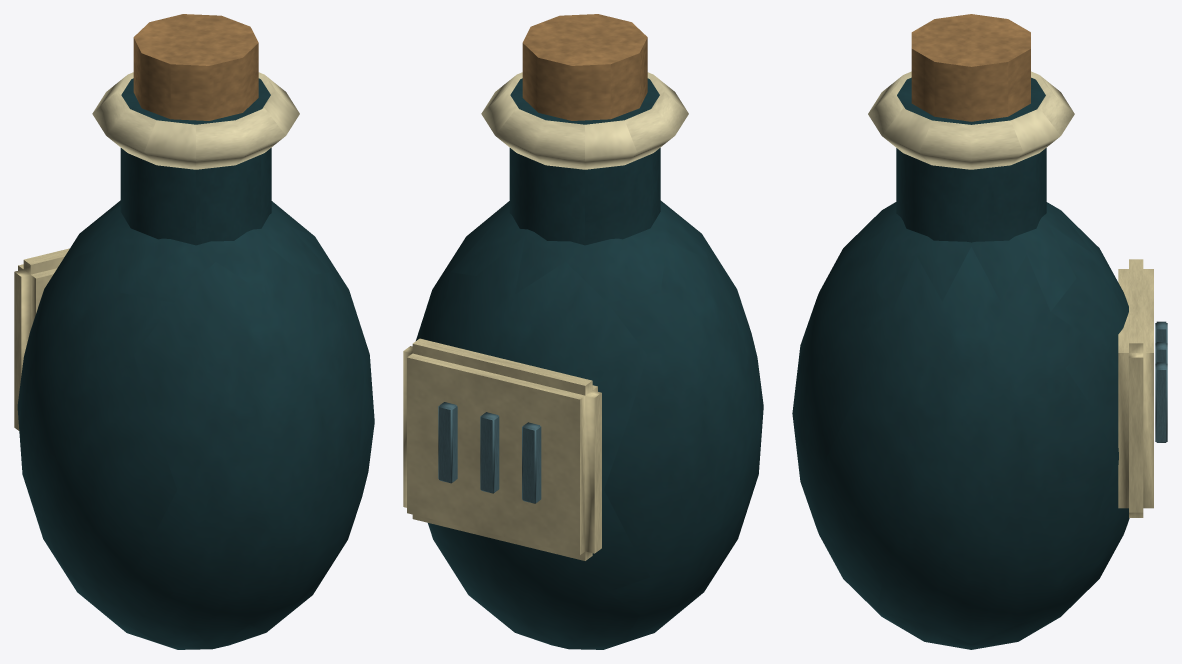
The model's file is item-LanternOil.fbx.
3 renders of one model, left to right at view 1: azimuth 30°, elevation 25°; view 2: azimuth 150°, elevation 25°; view 3: azimuth 270°, elevation 25°, orthographic.
Parts seen in each view (by area): view 1: item-LanternOil__Geometry; view 2: item-LanternOil__Geometry; view 3: item-LanternOil__Geometry.
Boxes of the visible parts, box(x1,y1,x2,y2) form: item-LanternOil__Geometry: box(14, 14, 374, 649); item-LanternOil__Geometry: box(403, 14, 763, 649); item-LanternOil__Geometry: box(792, 14, 1167, 649).
Size of the model in its own units: 0.26 by 0.479 by 0.2725.
1 material, 1 textured.
